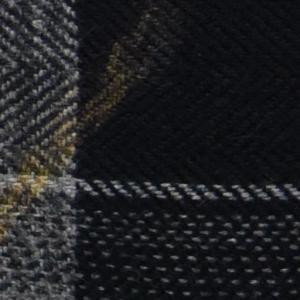Stain: (1, 1, 197, 244)
